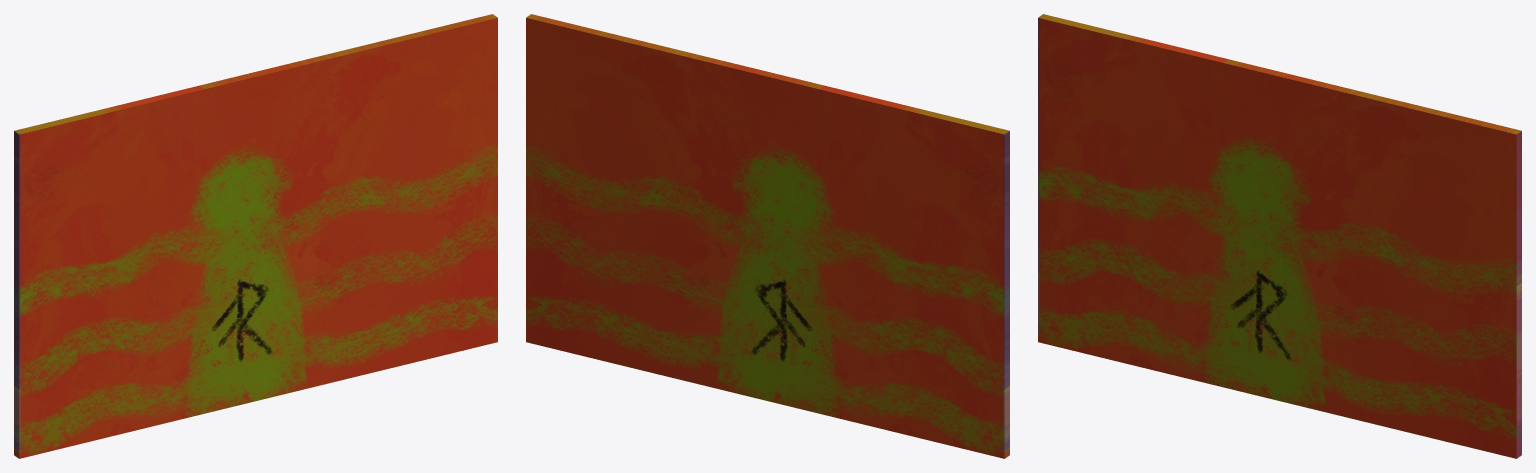
File: paintings_uri004.fbx
3 renders of one model, left to right at view 1: azimuth 30°, elevation 25°; view 2: azimuth 150°, elevation 25°; view 3: azimuth 330°, elevation 25°, orthographic.
Parts seen in each view (by area): view 1: paintings_uri004; view 2: paintings_uri004; view 3: paintings_uri004.
Boxes of the visible parts, box(x1,y1,x2,y2) form: paintings_uri004: box(14, 14, 497, 458); paintings_uri004: box(526, 14, 1009, 458); paintings_uri004: box(1038, 14, 1521, 458).
Bounding box in the file's own units: 340 × 220 × 6.33.
1 material, 1 textured.
